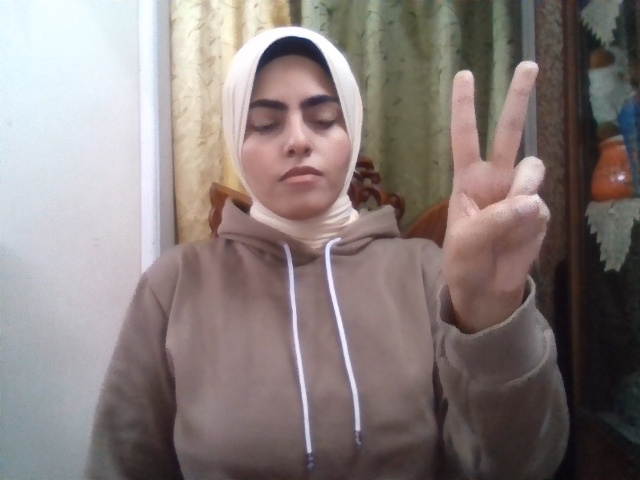V: (441, 60, 549, 300)
